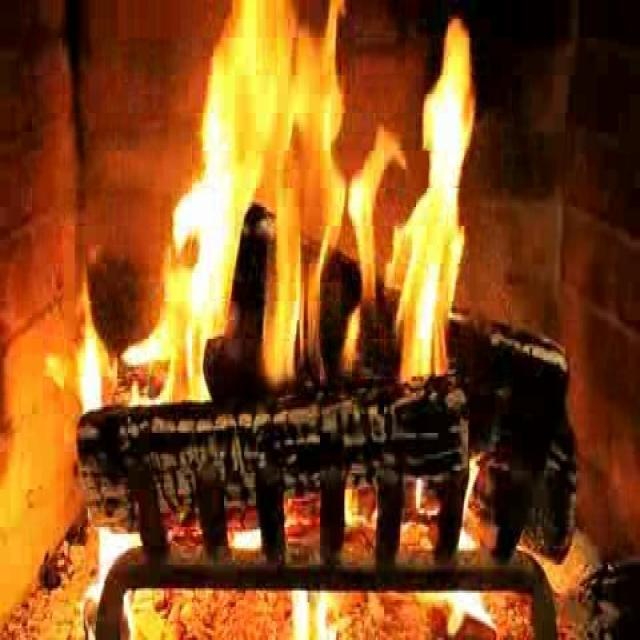Fire: (64, 3, 496, 407), (439, 452, 496, 634), (82, 518, 154, 624), (282, 590, 348, 634)
